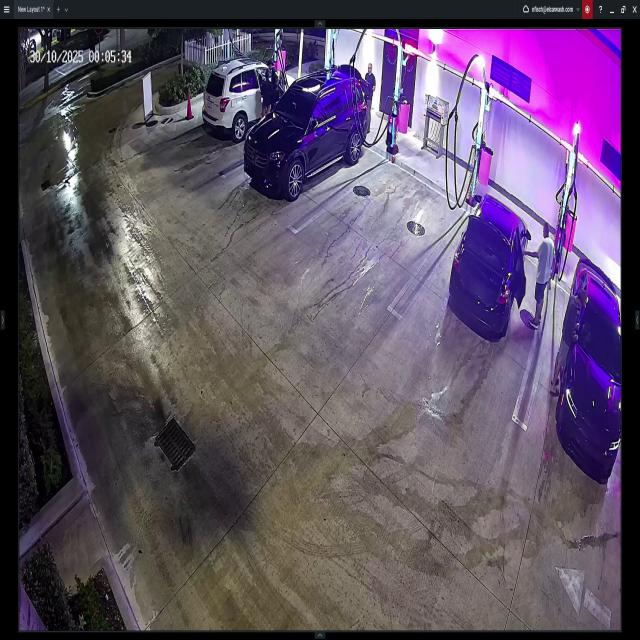Car: (246, 63, 366, 195), (558, 255, 620, 477), (450, 192, 531, 334), (204, 57, 295, 138)
